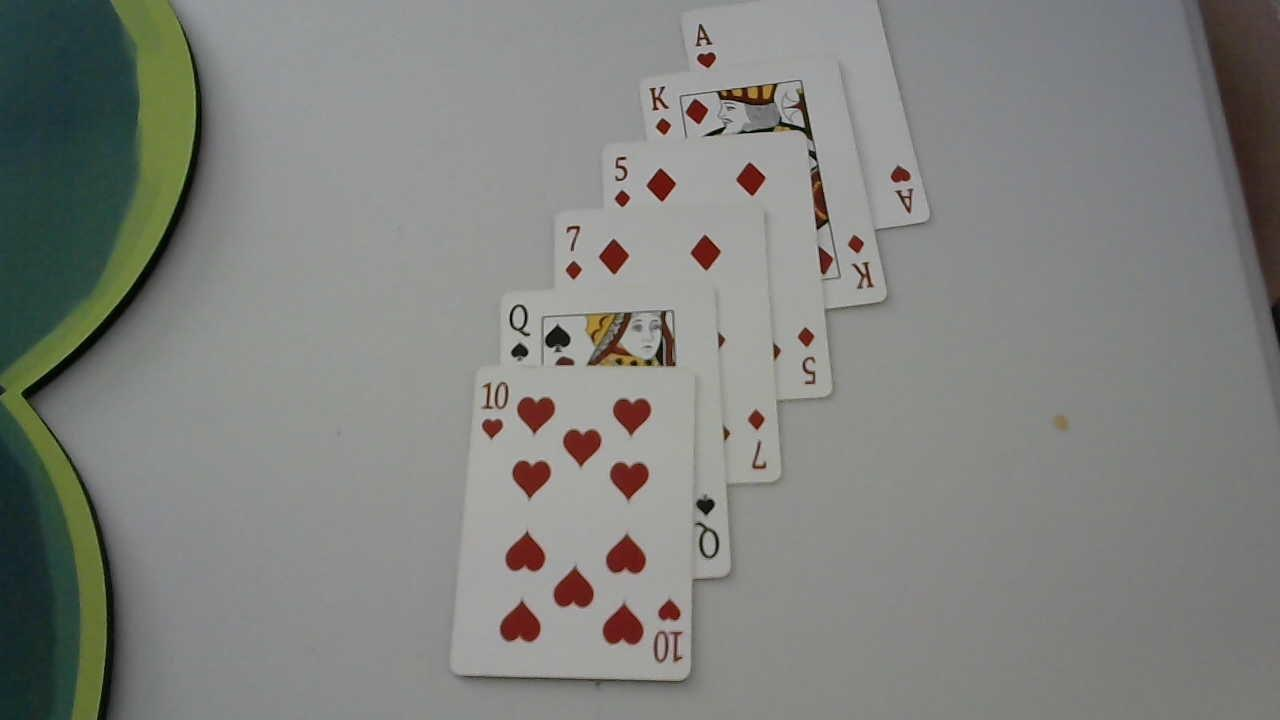10H: (649, 589, 691, 669), (474, 374, 514, 442)
5D: (791, 317, 821, 395), (610, 151, 634, 211)
7D: (555, 215, 587, 285), (747, 405, 777, 477)
AH: (884, 158, 926, 216), (691, 20, 720, 70)
KD: (842, 227, 878, 298), (643, 81, 678, 136)
QS: (690, 488, 725, 569), (502, 298, 540, 364)
